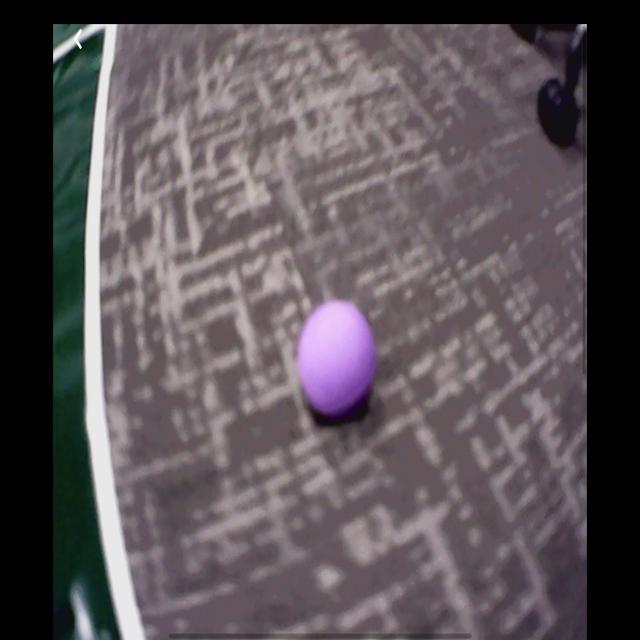ball: (296, 297, 376, 422)
